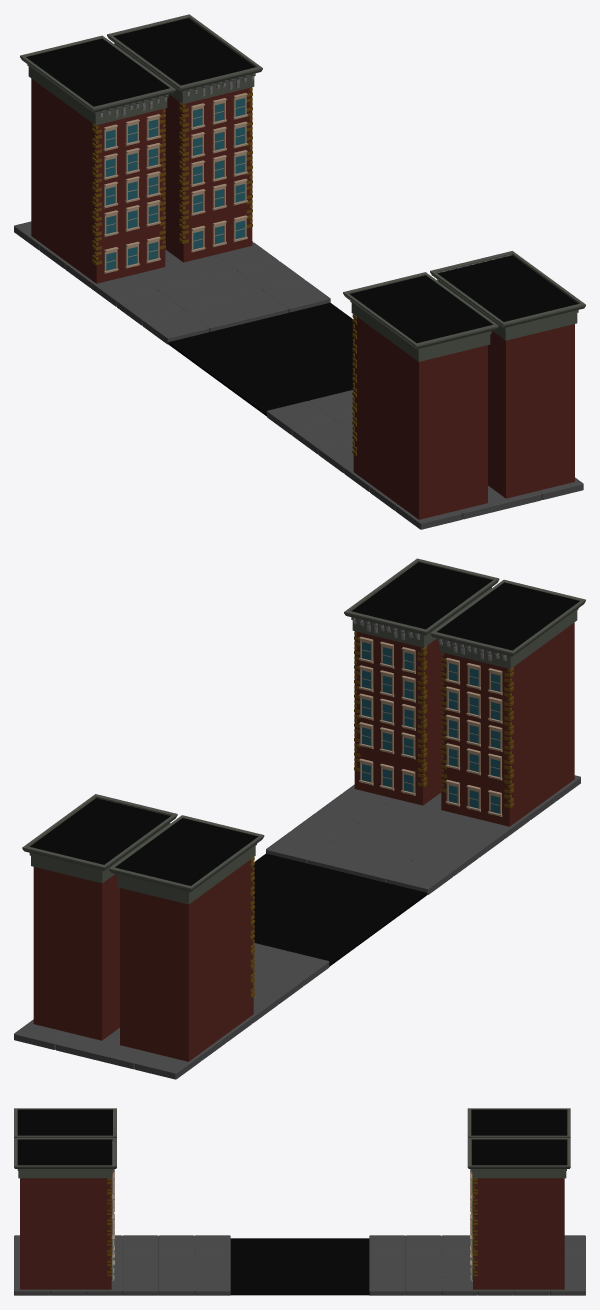
File: EmptyRoad.fbx
3 views of the same model, one above another, from view 1: azimuth 30°, elevation 25°; view 2: azimuth 150°, elevation 25°; view 3: azimuth 270°, elevation 25° (orthographic). The views are drawn at different scales.
Parts seen in each view (by area): view 1: Cube.2461, Cube.2373, Cube.2503, Cube.2415, Cube.2330, Cube.2329, Cube.2326, Cube.2331, Cube.2509, Cube.2511, Cube.2327, Cube.2508 (+8 smaller); view 2: Cube.2373, Cube.2461, Cube.2415, Cube.2331, Cube.2503, Cube.2330, Cube.2328, Cube.2329, Cube.2509, Cube.2511, Cube.2510, Cube.2508 (+8 smaller); view 3: Cube.2415, Cube.2503, Cube.2326, Cube.2328, Cube.2327, Cube.2330, Cube.2329, Cube.2331, Cube.2509, Cube.2508, Cube.2511, Cube.2510 (+6 smaller).
Part boxes in pixels (box(x1,y1,x2,y2)): Cube.2461: box(353, 317, 487, 519); Cube.2373: box(31, 78, 165, 283); Cube.2503: box(488, 324, 574, 498); Cube.2415: box(165, 87, 252, 262); Cube.2330: box(168, 322, 345, 416); Cube.2329: box(14, 221, 250, 344); Cube.2326: box(165, 241, 330, 322); Cube.2331: box(267, 390, 503, 529); Cube.2509: box(26, 38, 169, 106); Cube.2511: box(350, 275, 492, 343); Cube.2327: box(248, 302, 353, 391); Cube.2508: box(114, 18, 254, 85); Cube.2373: box(120, 860, 253, 1061); Cube.2461: box(441, 622, 574, 826); Cube.2415: box(33, 867, 119, 1040); Cube.2331: box(346, 775, 580, 894); Cube.2503: box(354, 631, 441, 805); Cube.2330: box(254, 873, 427, 966); Cube.2328: box(266, 784, 441, 873); Cube.2329: box(96, 943, 329, 1079); Cube.2509: box(115, 818, 257, 885); Cube.2511: box(437, 582, 579, 650); Cube.2510: box(351, 562, 492, 629); Cube.2508: box(30, 798, 170, 864); Cube.2415: box(473, 1178, 564, 1289); Cube.2503: box(20, 1178, 111, 1289); Cube.2326: box(369, 1263, 585, 1295); Cube.2328: box(14, 1263, 230, 1295); Cube.2327: box(230, 1265, 369, 1295); Cube.2330: box(230, 1238, 369, 1266); Cube.2329: box(369, 1235, 585, 1263); Cube.2331: box(14, 1235, 230, 1263); Cube.2509: box(471, 1109, 567, 1135); Cube.2508: box(471, 1139, 567, 1165); Cube.2511: box(17, 1109, 112, 1135); Cube.2510: box(17, 1139, 112, 1165).
Size of the model in its own units: 3062 by 3199 by 12746.
